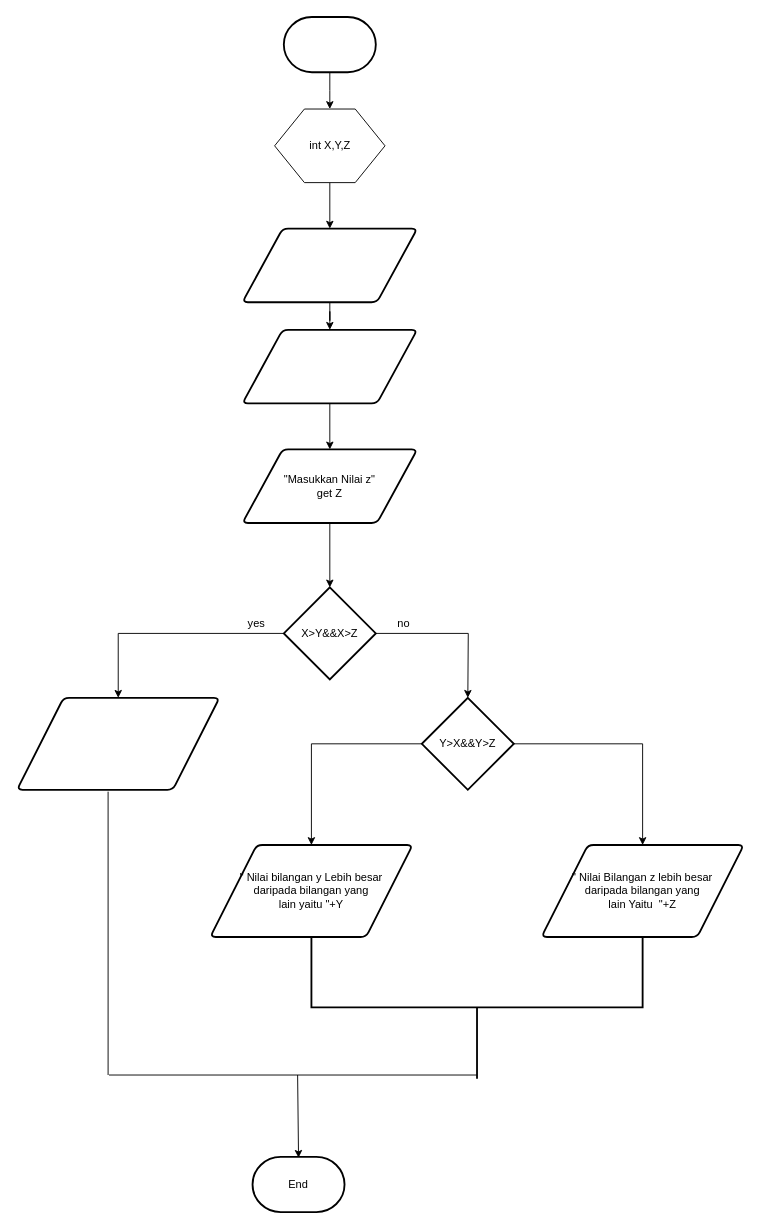
Some shapes in this 760 by 1228 pixel diagram are drawn without their labels. Each missing label, with the box of its shape:
" Nilai bilangan x Lebih besar daripada bilangan yang lain yaitu "+X: (16, 696, 220, 790)
"Masukkan Nilai x" get X: (241, 227, 418, 303)
"Masukkan Nilai y" get Y: (241, 328, 418, 404)
Start: (282, 16, 376, 73)
